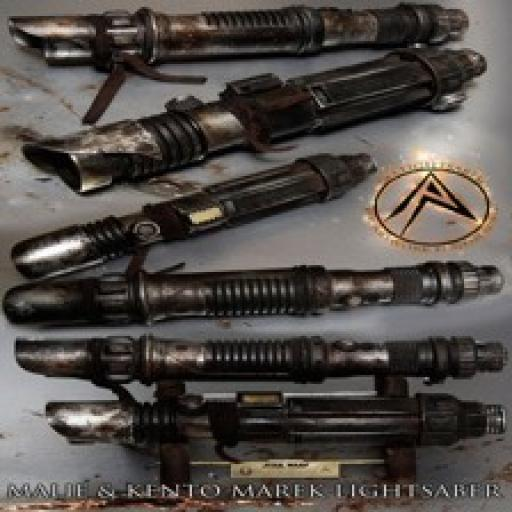lightsaber: (22, 50, 488, 199), (11, 154, 384, 274), (0, 260, 503, 327), (8, 0, 469, 67), (7, 334, 510, 386), (40, 397, 507, 453)
